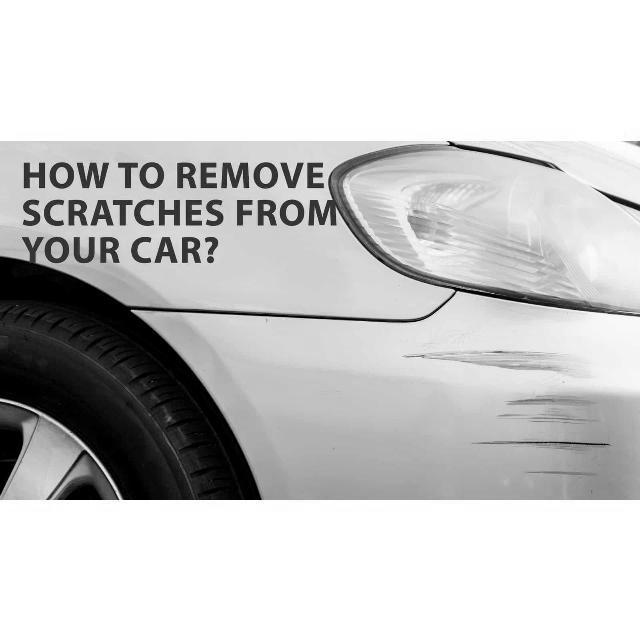front-bumper-dent: (137, 301, 639, 499)
